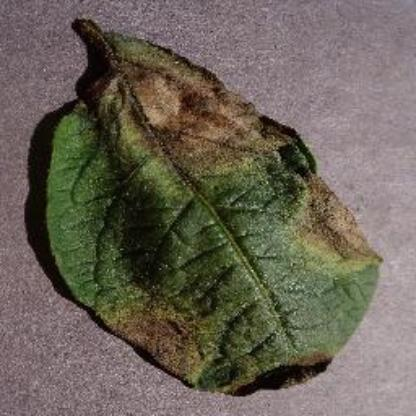Late-Blight: (35, 13, 389, 395)
